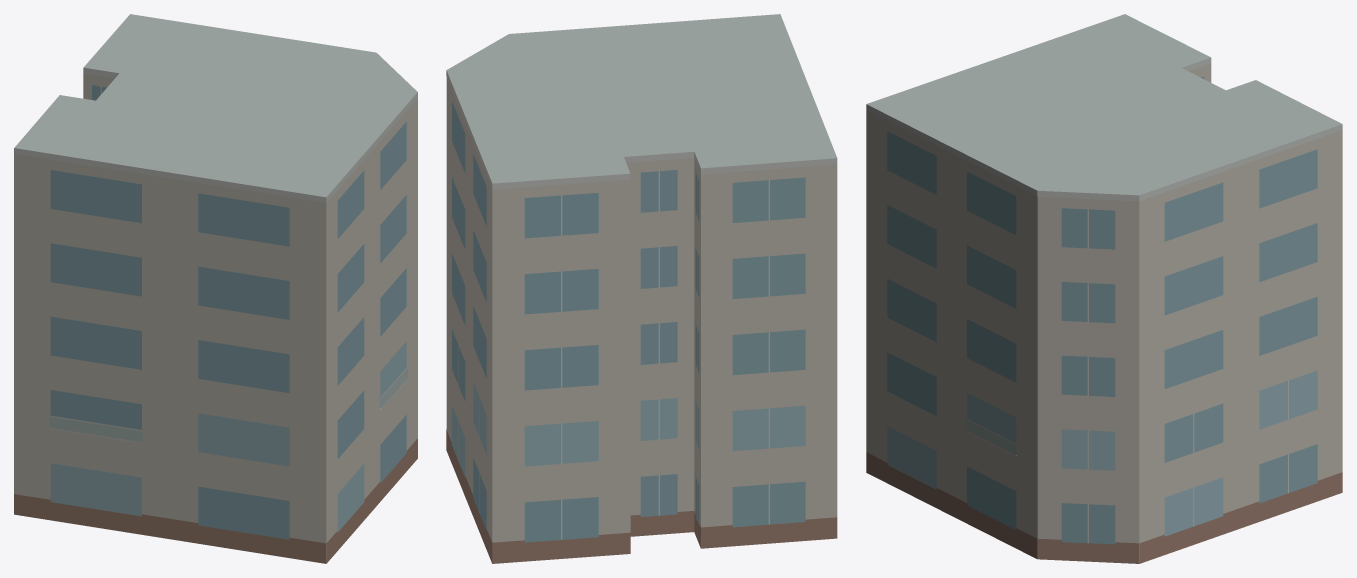
The model's file is survey-upis-32844132.glb.
3 views of the same model, side by side, from view 1: azimuth 30°, elevation 25°; view 2: azimuth 150°, elevation 25°; view 3: azimuth 270°, elevation 25° (orthographic). The views are drawn at different scales.
Visible parts, largest first — view 1: survey-upis-32844132.tmp; view 2: survey-upis-32844132.tmp; view 3: survey-upis-32844132.tmp.
Boxes of the visible parts, left/top/right/bottom form: survey-upis-32844132.tmp: left=14, top=14, right=417, bottom=563; survey-upis-32844132.tmp: left=446, top=14, right=837, bottom=563; survey-upis-32844132.tmp: left=866, top=14, right=1342, bottom=563.
Size of the model in its own units: 16.37 by 15.5 by 18.17.
